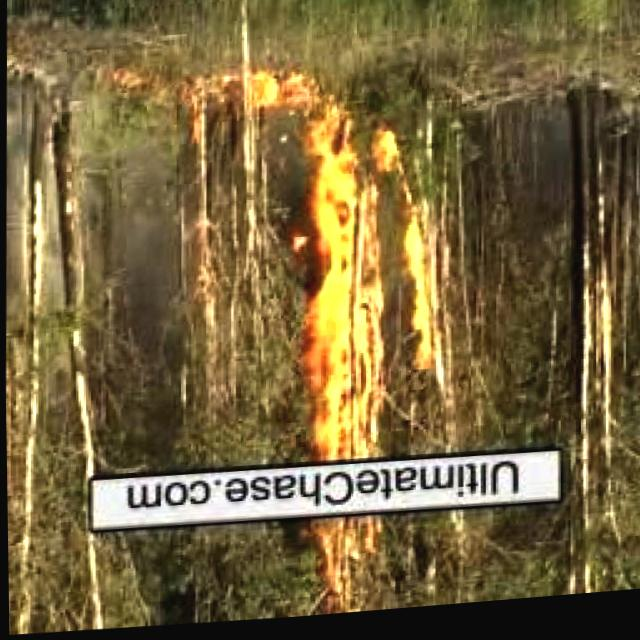helmet: (284, 110, 456, 475), (304, 515, 382, 590), (235, 72, 332, 126)
